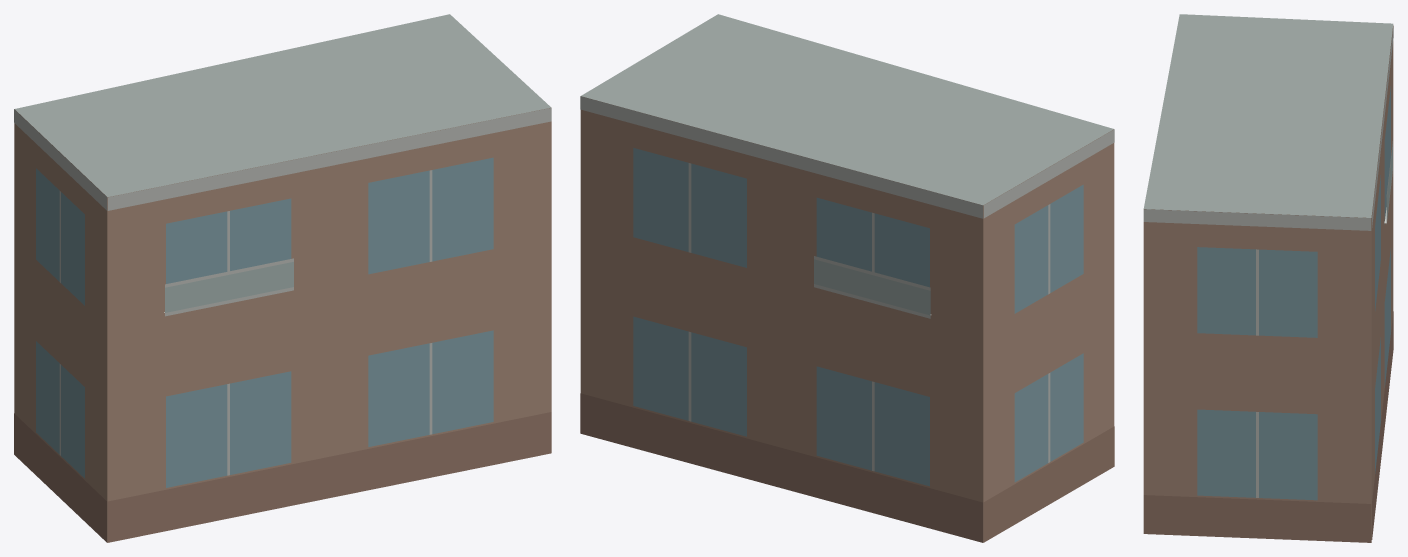
Rendered from survey-upis-32954457.glb.
3 renders of one model, left to right at view 1: azimuth 30°, elevation 25°; view 2: azimuth 150°, elevation 25°; view 3: azimuth 270°, elevation 25°, orthographic. The views are drawn at different scales.
Visible parts, largest first — view 1: survey-upis-32954457.tmp; view 2: survey-upis-32954457.tmp; view 3: survey-upis-32954457.tmp.
Boxes of the visible parts, x1,y1,x2,y2 form: survey-upis-32954457.tmp: [14, 14, 551, 542]; survey-upis-32954457.tmp: [580, 14, 1114, 542]; survey-upis-32954457.tmp: [1143, 14, 1393, 542].
Bounding box in the file's own units: 8.22 × 6.1 × 4.26.
